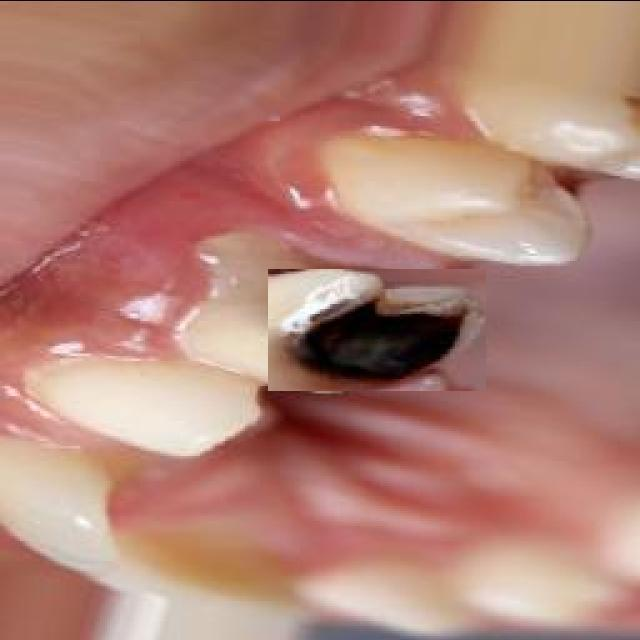caries: (268, 268, 486, 390)
